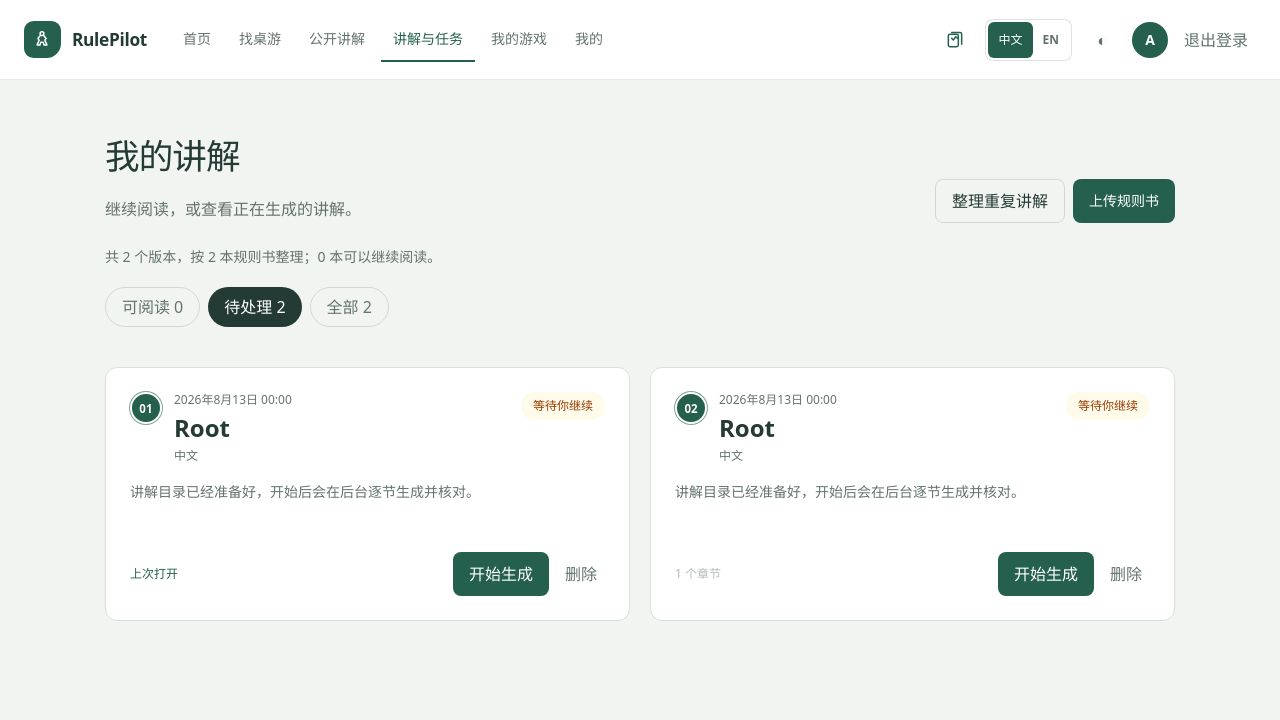
Test case: LessonsView › previews duplicate cleanup before confirmation and keeps the dialog retryable after failure
Click the button "整理重复讲解".
click(1000, 201)  # box [935,179,1065,223]
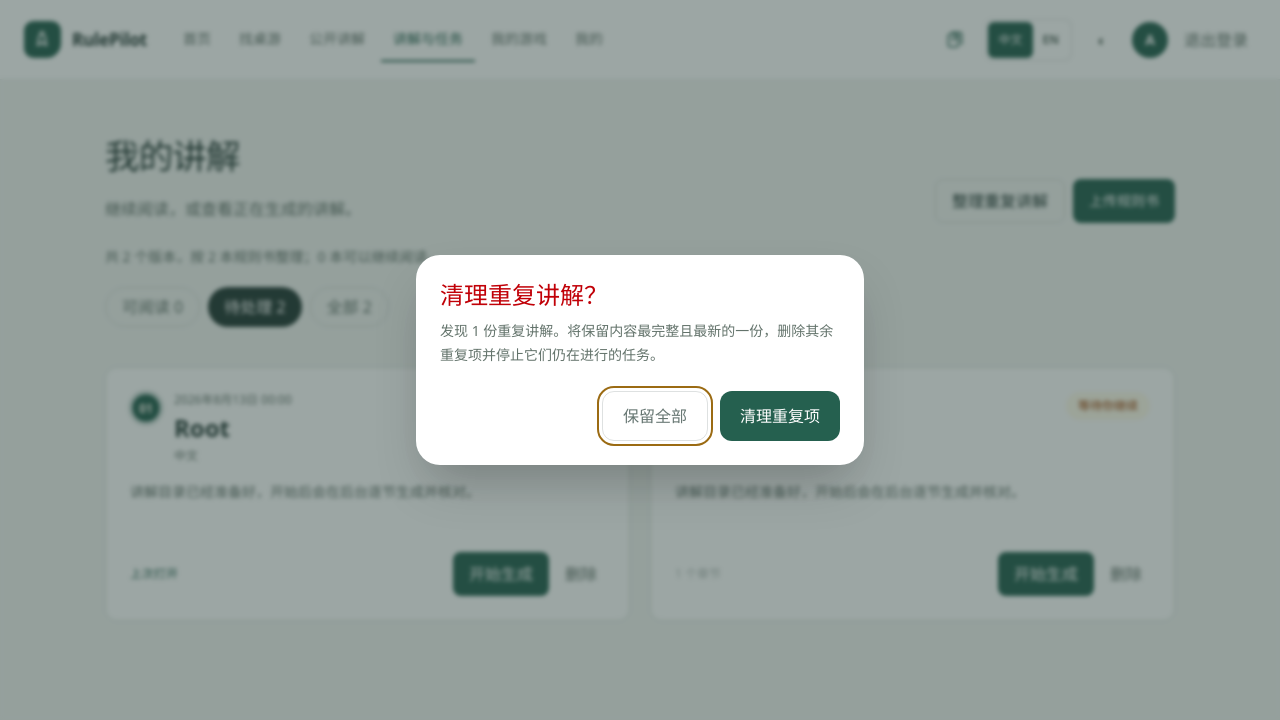
Expected: the dialog shows "发现 1 份重复讲解", [440,321,833,364]
Click the button "清理重复项".
click(780, 416)  # box [720,391,840,441]
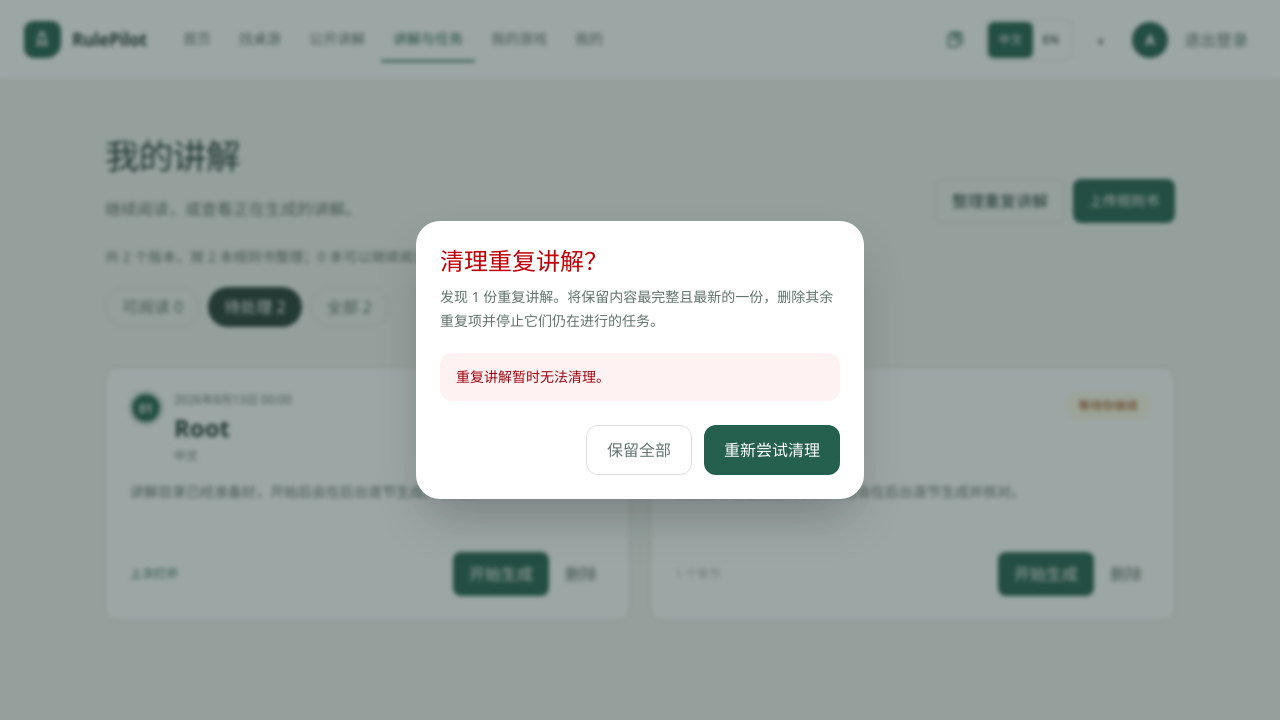
Expected: the dialog shows "重复讲解暂时无法清理", [456,367,610,386]
Click the button "重新尝试清理".
click(772, 450)  # box [704,425,840,475]
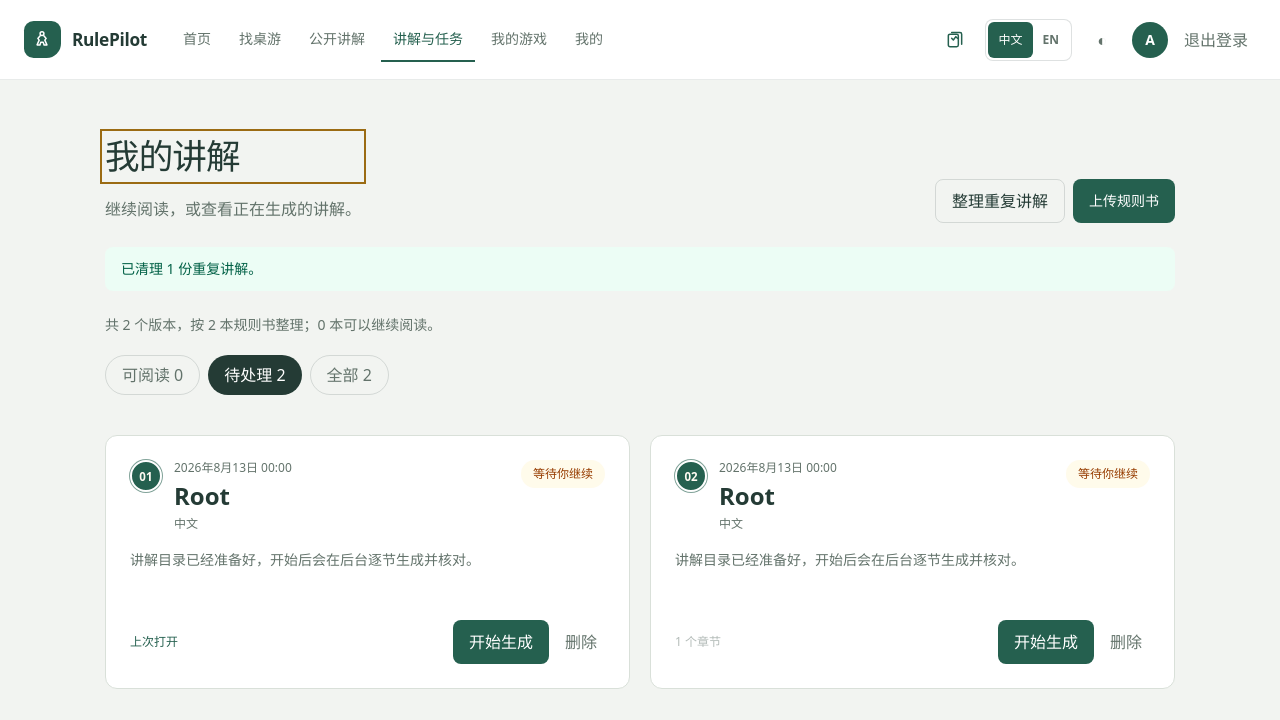
Expected: the dialog is gone
Expected: the text "已清理 1 份重复讲解" is shown, [121,259,262,278]
